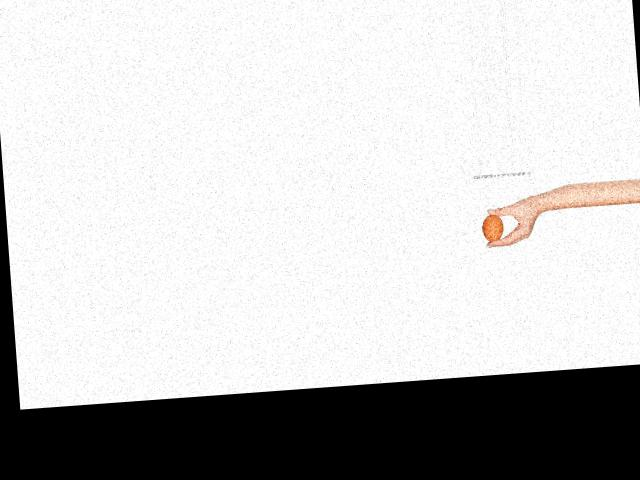egg: (481, 213, 503, 243)
